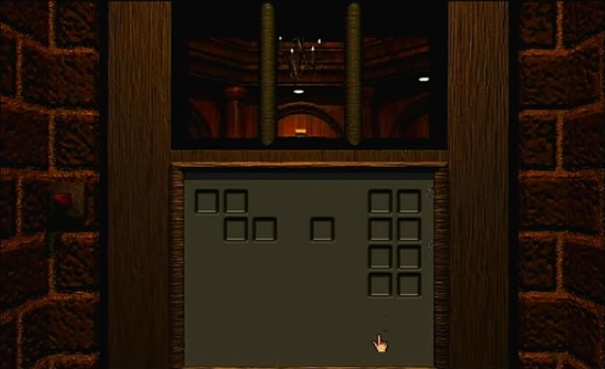Pointer: (370, 331, 391, 353)
